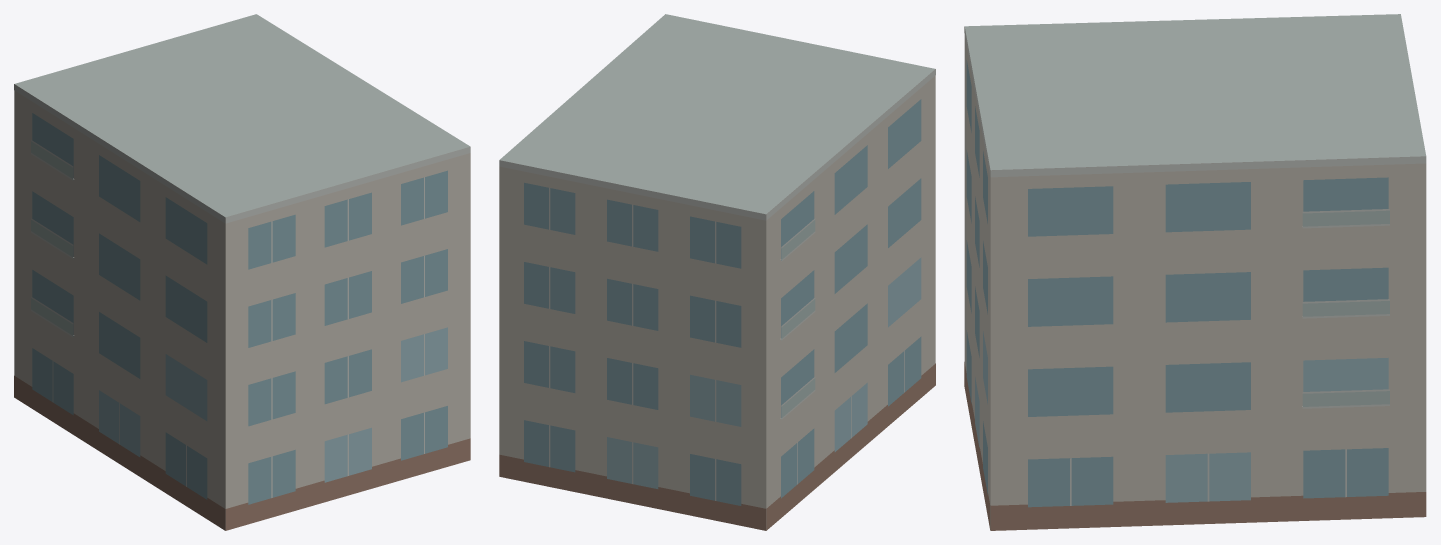
File: survey-upis-32804633.glb
3 views of the same model, side by side, from view 1: azimuth 30°, elevation 25°; view 2: azimuth 150°, elevation 25°; view 3: azimuth 270°, elevation 25° (orthographic). The views are drawn at different scales.
Parts seen in each view (by area): view 1: survey-upis-32804633.tmp; view 2: survey-upis-32804633.tmp; view 3: survey-upis-32804633.tmp.
Boxes of the visible parts, <box> form: survey-upis-32804633.tmp: <box>14,14,470,530</box>; survey-upis-32804633.tmp: <box>499,14,935,530</box>; survey-upis-32804633.tmp: <box>964,14,1426,530</box>.
Bounding box in the file's own units: 11.34 × 12.2 × 14.16.
